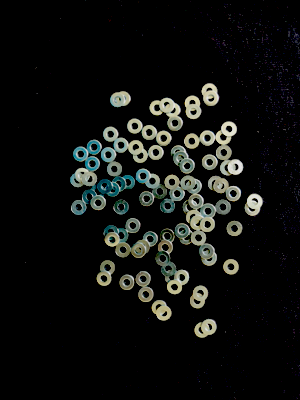circle: (222, 259, 241, 277), (148, 99, 166, 117), (203, 90, 221, 108), (69, 200, 88, 217), (198, 243, 216, 260), (99, 260, 117, 277), (225, 221, 243, 238), (247, 193, 265, 210), (184, 95, 201, 113), (118, 273, 134, 292), (201, 251, 220, 267), (214, 200, 233, 216), (201, 84, 220, 100), (194, 321, 211, 338), (189, 293, 206, 310), (137, 287, 154, 304), (135, 271, 152, 288), (164, 269, 181, 286), (190, 230, 207, 247), (244, 200, 261, 217), (207, 175, 224, 192), (201, 154, 218, 171), (179, 158, 196, 175), (165, 101, 182, 118), (174, 224, 192, 240), (134, 169, 152, 185), (163, 173, 181, 189), (225, 186, 243, 202), (174, 270, 190, 287), (101, 226, 118, 242), (200, 217, 217, 233), (189, 216, 206, 232), (91, 195, 107, 212), (73, 146, 89, 163), (100, 147, 117, 163), (102, 126, 118, 143), (127, 140, 144, 156), (131, 148, 148, 164), (160, 198, 176, 215), (145, 174, 162, 190), (169, 186, 186, 202), (187, 179, 204, 195), (188, 193, 204, 210), (182, 200, 199, 216), (220, 159, 236, 176), (229, 159, 245, 176), (216, 145, 233, 161), (184, 133, 200, 150), (170, 146, 187, 162), (156, 130, 172, 147), (142, 125, 157, 143), (184, 105, 202, 120), (96, 271, 112, 287), (104, 232, 120, 248), (125, 218, 141, 234), (114, 200, 130, 216), (105, 182, 121, 198), (82, 171, 98, 187), (86, 140, 102, 156), (107, 161, 123, 177), (113, 138, 129, 154), (152, 185, 168, 201), (180, 176, 196, 192), (215, 130, 231, 146), (200, 130, 216, 146), (173, 151, 189, 167), (109, 92, 125, 108), (201, 320, 216, 337), (179, 230, 194, 247), (114, 228, 129, 245), (82, 189, 97, 206), (111, 176, 126, 193), (75, 167, 90, 184), (138, 192, 155, 207), (201, 203, 216, 220), (213, 179, 230, 194), (193, 286, 208, 302), (166, 280, 182, 295), (161, 262, 176, 278), (155, 252, 171, 267), (116, 242, 131, 258), (131, 243, 146, 259), (135, 240, 151, 255), (90, 185, 106, 200), (85, 157, 101, 172), (222, 121, 237, 137), (127, 119, 143, 134), (149, 145, 164, 161), (98, 178, 112, 195), (70, 172, 84, 189), (156, 306, 171, 321), (160, 229, 175, 244), (186, 210, 201, 225), (168, 116, 183, 131), (160, 98, 175, 113), (152, 300, 166, 316), (142, 232, 158, 246), (122, 175, 136, 191), (117, 91, 131, 107), (158, 241, 173, 254)
